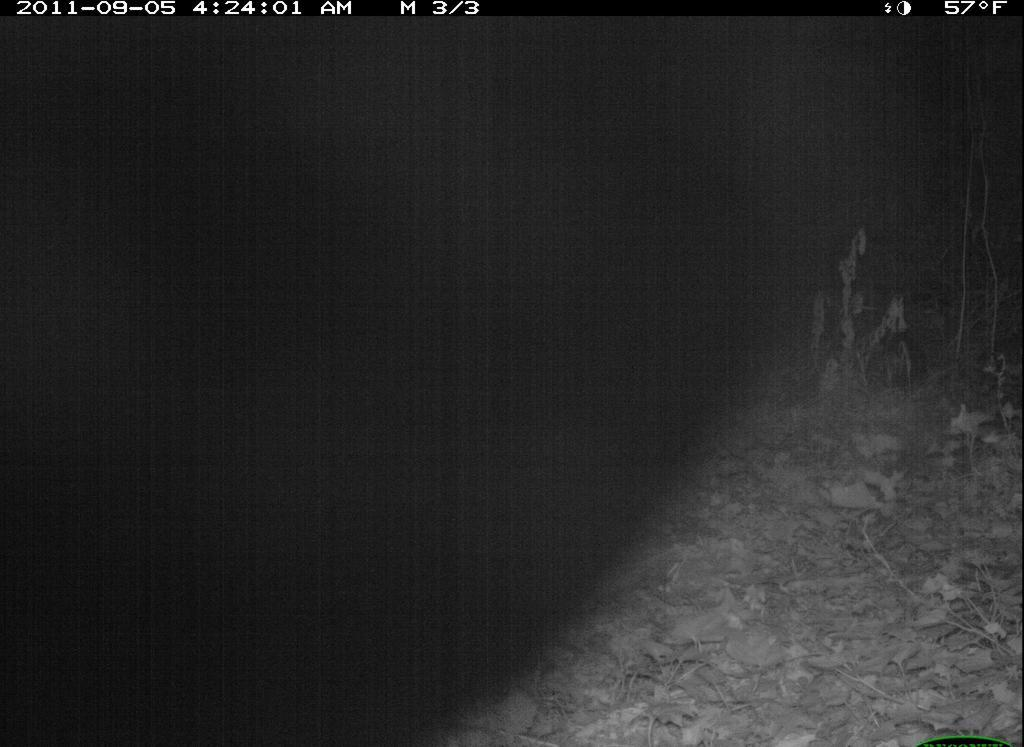opossum: (4, 12, 882, 747)
